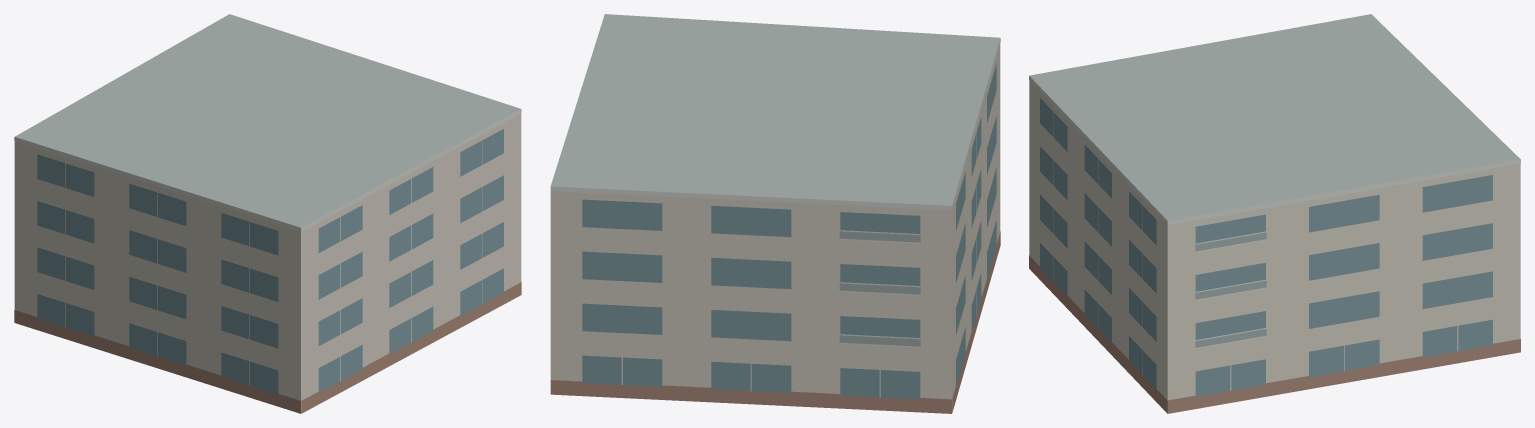
File: survey-upis-32913675.glb
The picture shows the model from 3 angles, left to right: view 1: azimuth 30°, elevation 25°; view 2: azimuth 150°, elevation 25°; view 3: azimuth 270°, elevation 25°; orthographic projection. The views are drawn at different scales.
Parts seen in each view (by area): view 1: survey-upis-32913675.tmp; view 2: survey-upis-32913675.tmp; view 3: survey-upis-32913675.tmp.
Boxes of the visible parts, x1,y1,x2,y2 form: survey-upis-32913675.tmp: (14,14,521,413); survey-upis-32913675.tmp: (550,14,1000,413); survey-upis-32913675.tmp: (1029,14,1520,413).
Bounding box in the file's own units: 25.07 × 10.9 × 25.17.
